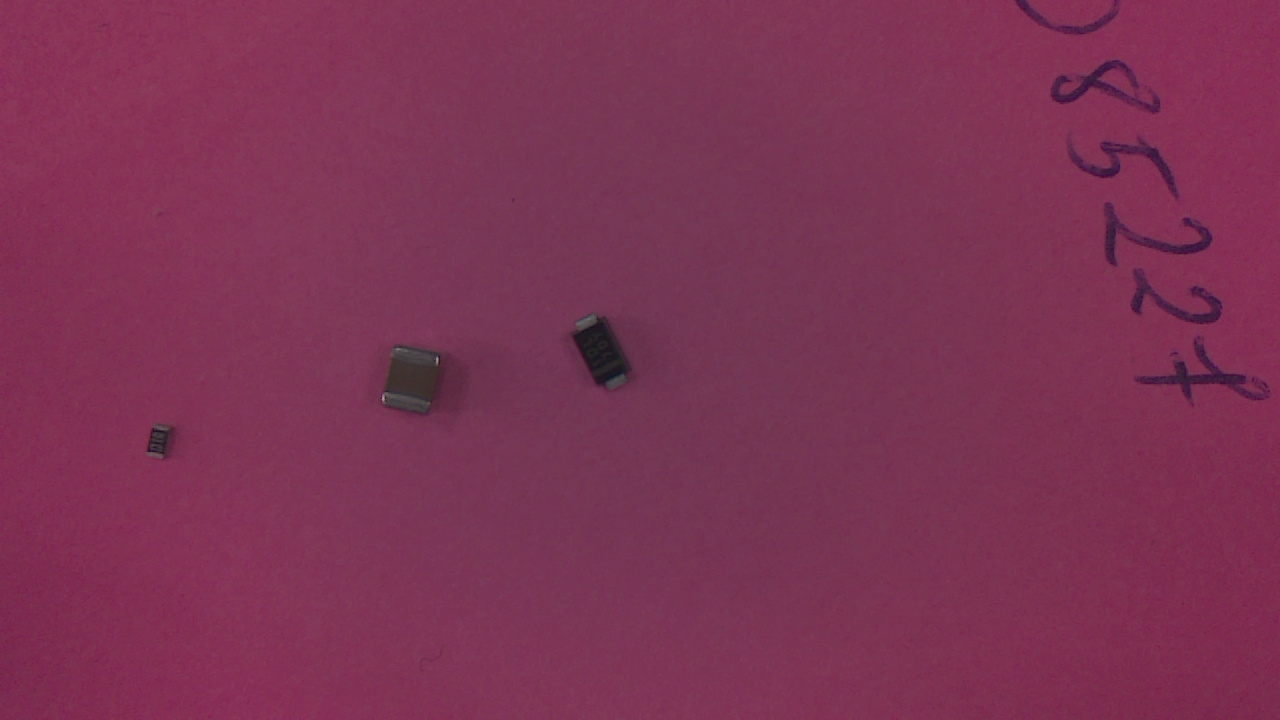Condensator: (380, 349, 449, 421)
Diode: (572, 316, 639, 402)
Resistor: (146, 426, 178, 467)
